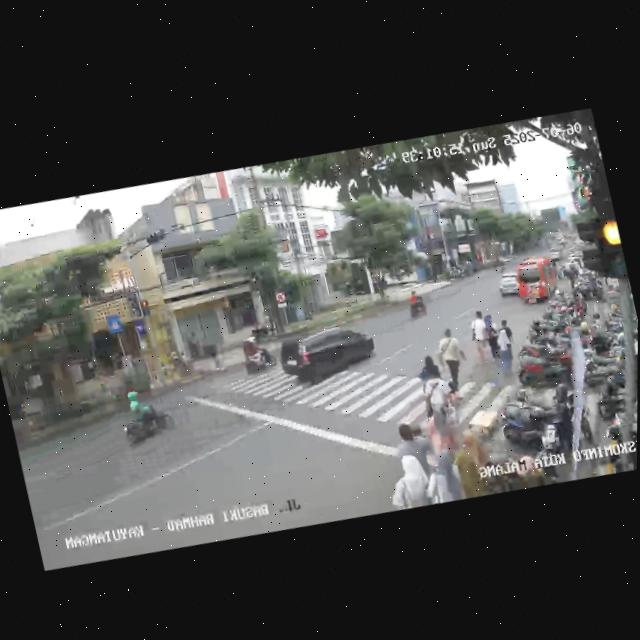car: (275, 314, 381, 395), (511, 250, 568, 309), (495, 271, 521, 300)
motorcycle: (113, 379, 179, 452), (238, 329, 280, 377), (402, 284, 428, 321)
person: (417, 361, 465, 450), (448, 423, 499, 501), (385, 414, 440, 481), (381, 448, 434, 512), (414, 443, 467, 507), (433, 324, 471, 390), (464, 308, 494, 368), (413, 352, 443, 397), (480, 310, 505, 364), (493, 314, 518, 361), (491, 328, 516, 374)
